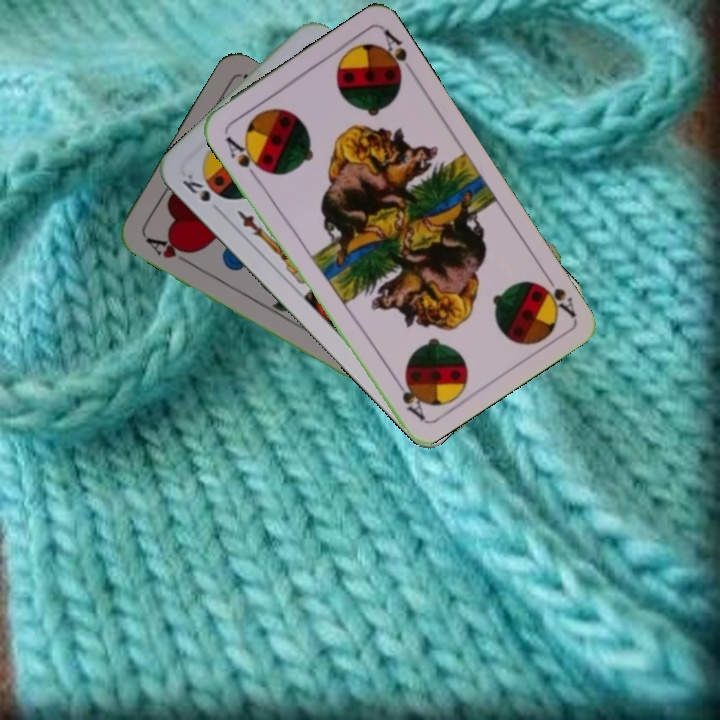HA: (142, 233, 196, 268)
SA: (530, 268, 579, 321), (220, 132, 267, 182)
SK: (178, 169, 225, 217)
